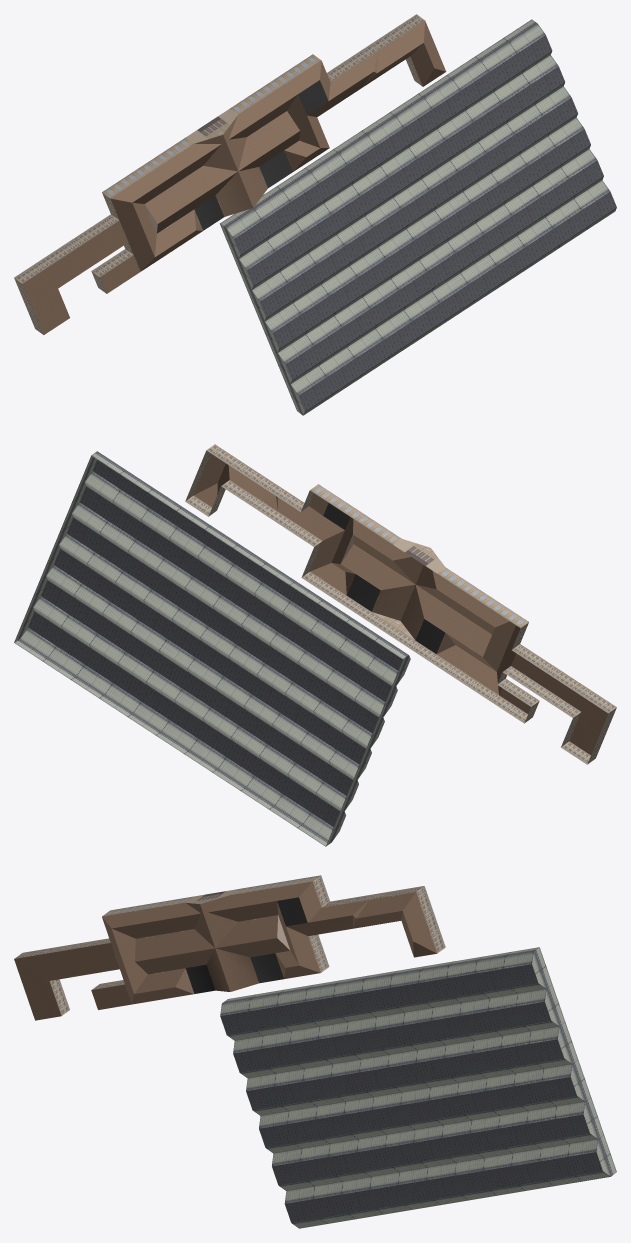
File: DEU_600_KARLSRUHE_HAUPTBA_L.OBJ
The picture shows the model from 3 angles, top to bottom: view 1: azimuth 30°, elevation 25°; view 2: azimuth 150°, elevation 25°; view 3: azimuth 330°, elevation 25°; orthographic projection.
Parts seen in each view (by area): view 1: DEU_600_KARLSRUHE_HAUPTBA_L; view 2: DEU_600_KARLSRUHE_HAUPTBA_L; view 3: DEU_600_KARLSRUHE_HAUPTBA_L.
Part boxes in pixels (<box>): DEU_600_KARLSRUHE_HAUPTBA_L: <box>14,14,616,415</box>; DEU_600_KARLSRUHE_HAUPTBA_L: <box>14,444,616,846</box>; DEU_600_KARLSRUHE_HAUPTBA_L: <box>14,875,616,1228</box>.
Size of the model in its own units: 317 by 187 by 14.47.
1 material, 1 textured.
